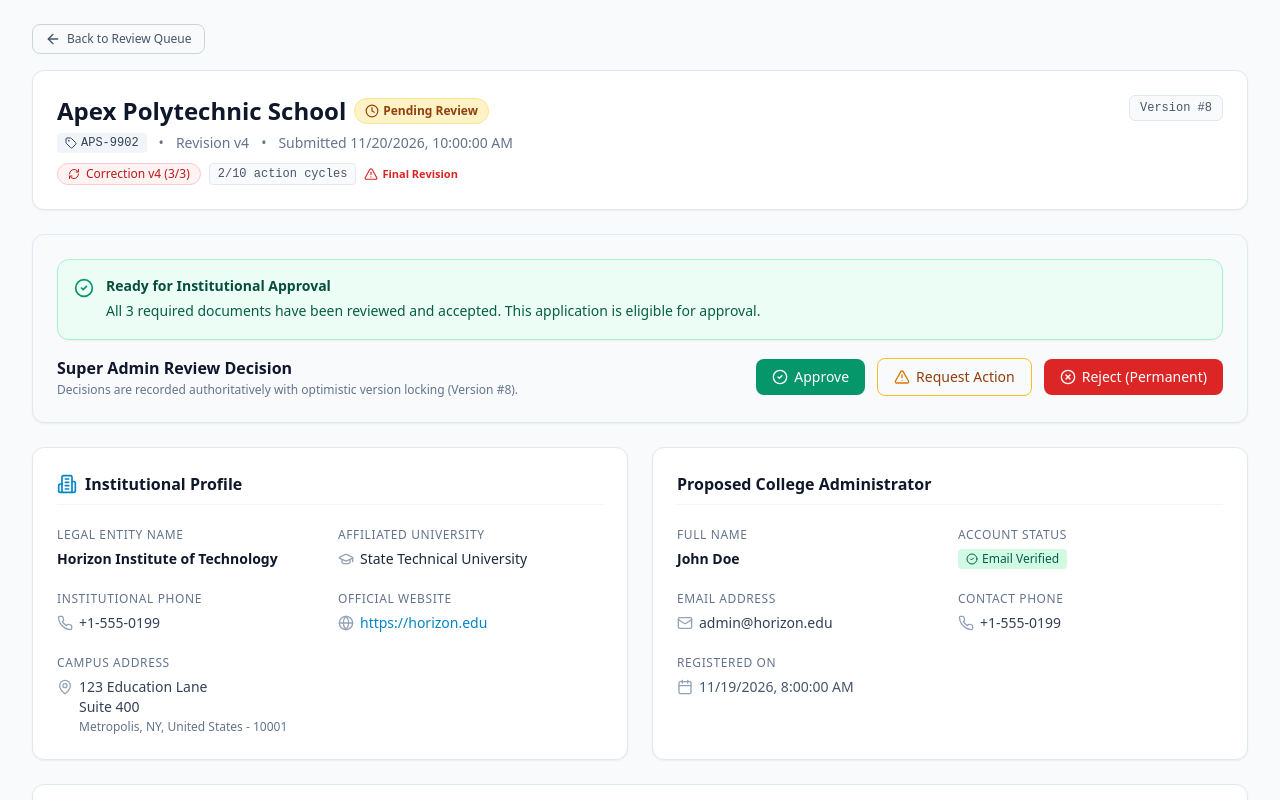
Test case: Module 3.4 — Super Admin Approval Queue & Review Workflow (Frontend) › 19. displays permanent rejection warning on revision v4 when resubmissionCount = 3
Click the button "Reject (Permanent)": (1133, 377) x1=1044 y1=359 x2=1223 y2=395
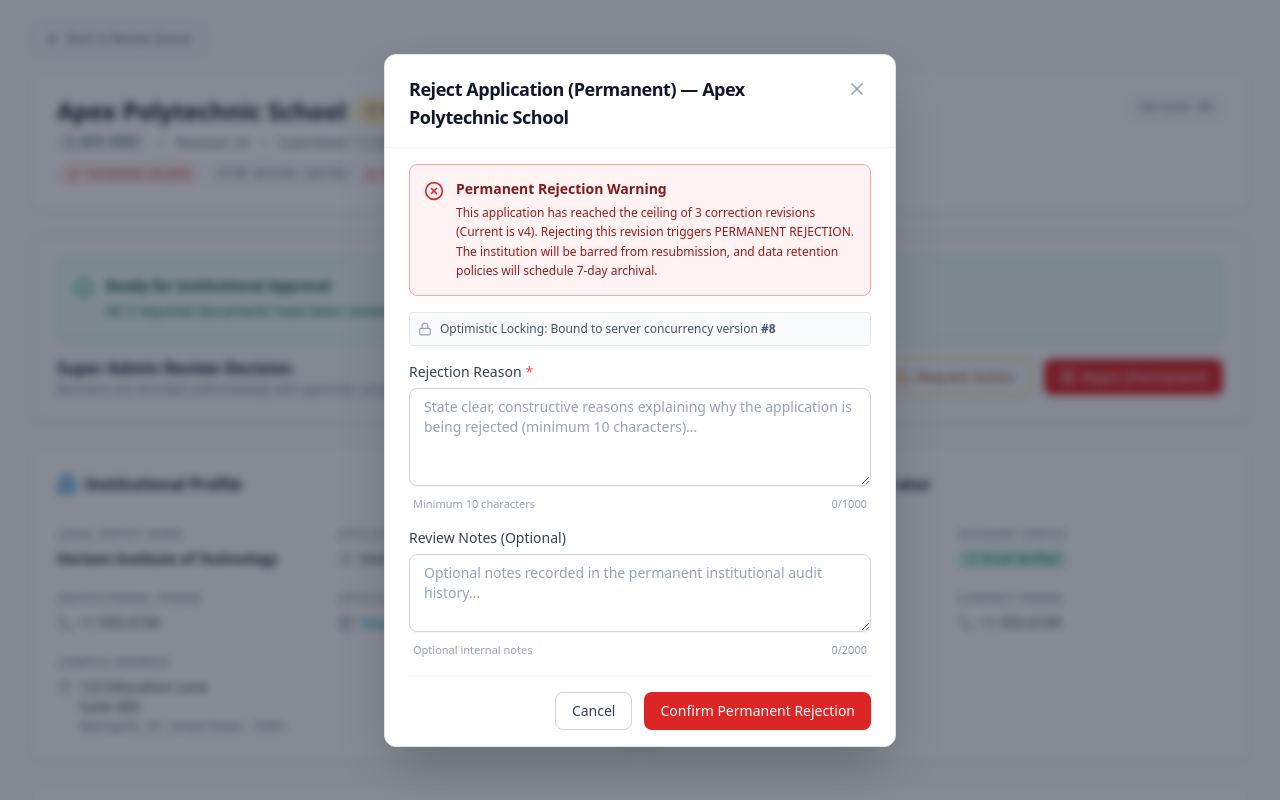
Now the text "Permanent Rejection Warning" is shown, box x1=456 y1=178 x2=667 y2=198
Now the text "ceiling of 3 correction revisions" is shown, box x1=456 y1=204 x2=854 y2=279
Now the button "Confirm Permanent Rejection" is shown, box x1=644 y1=692 x2=871 y2=730
